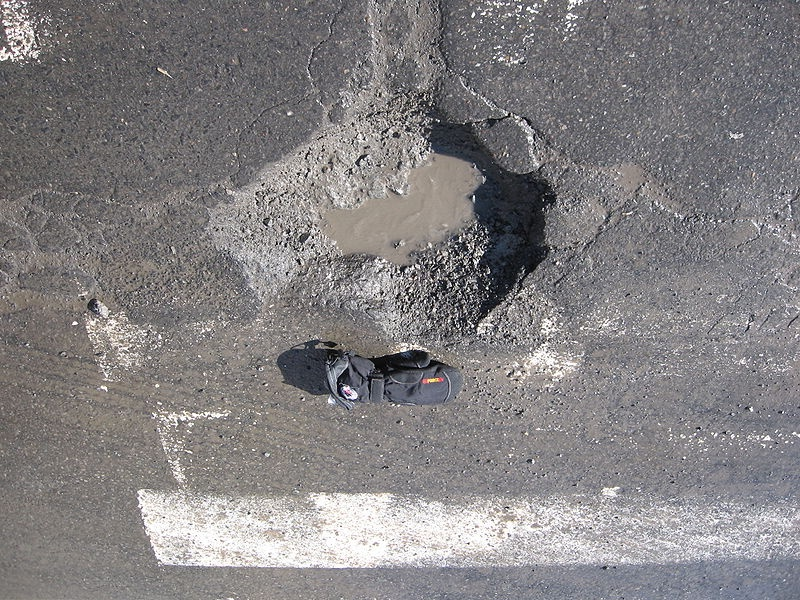pothole: (253, 119, 557, 339)
